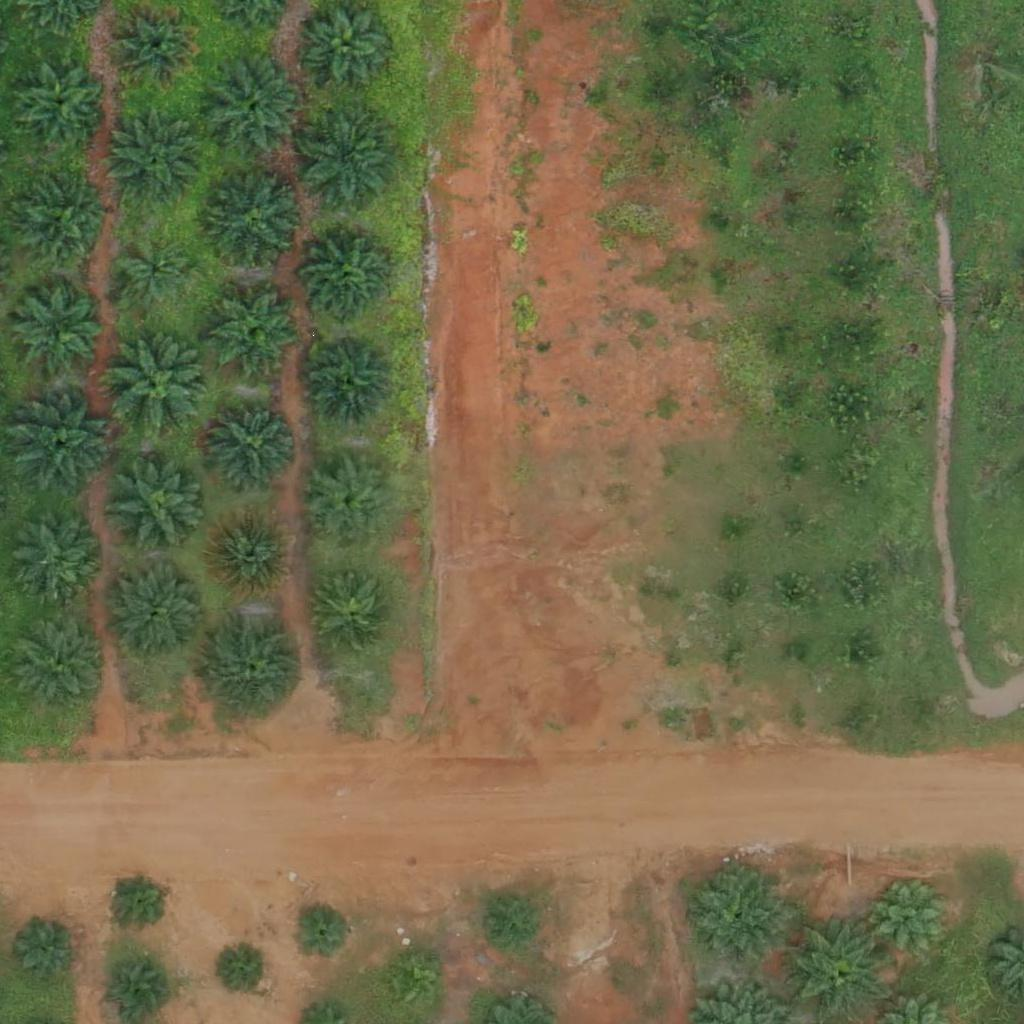Kelapa_Sawit: (111, 336, 211, 437), (11, 56, 111, 157), (12, 172, 112, 273), (10, 396, 110, 497), (7, 609, 107, 710), (109, 457, 209, 558), (107, 561, 207, 662), (206, 615, 306, 716), (690, 867, 790, 968), (788, 918, 888, 1019), (296, 106, 396, 206), (201, 58, 301, 158), (203, 172, 303, 272), (106, 110, 206, 210), (306, 1, 394, 89), (213, 288, 301, 376), (207, 398, 295, 486), (207, 509, 295, 597), (312, 572, 400, 660), (873, 876, 960, 964), (306, 238, 393, 326), (307, 335, 394, 423), (306, 461, 393, 549), (112, 2, 199, 90), (15, 284, 102, 372), (22, 512, 109, 600), (118, 238, 193, 314), (106, 870, 169, 933), (107, 959, 170, 1022), (381, 954, 444, 1017), (473, 892, 536, 955), (16, 919, 78, 982), (291, 901, 353, 964), (221, 945, 271, 996)
